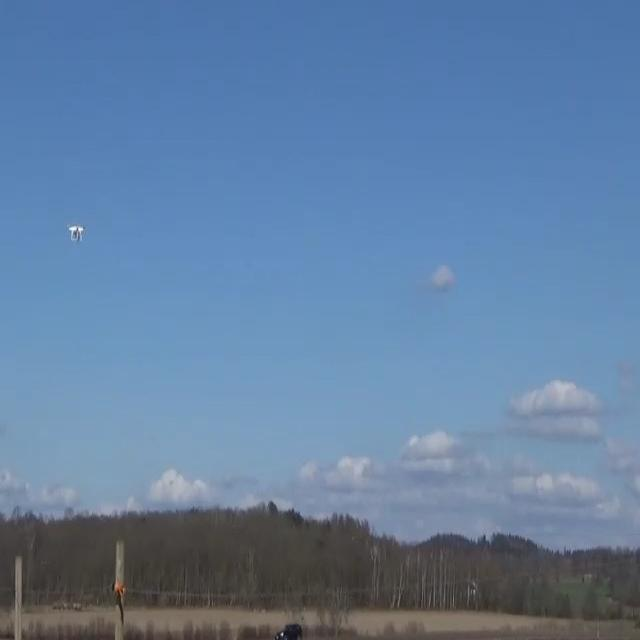drone: (67, 224, 84, 241)
